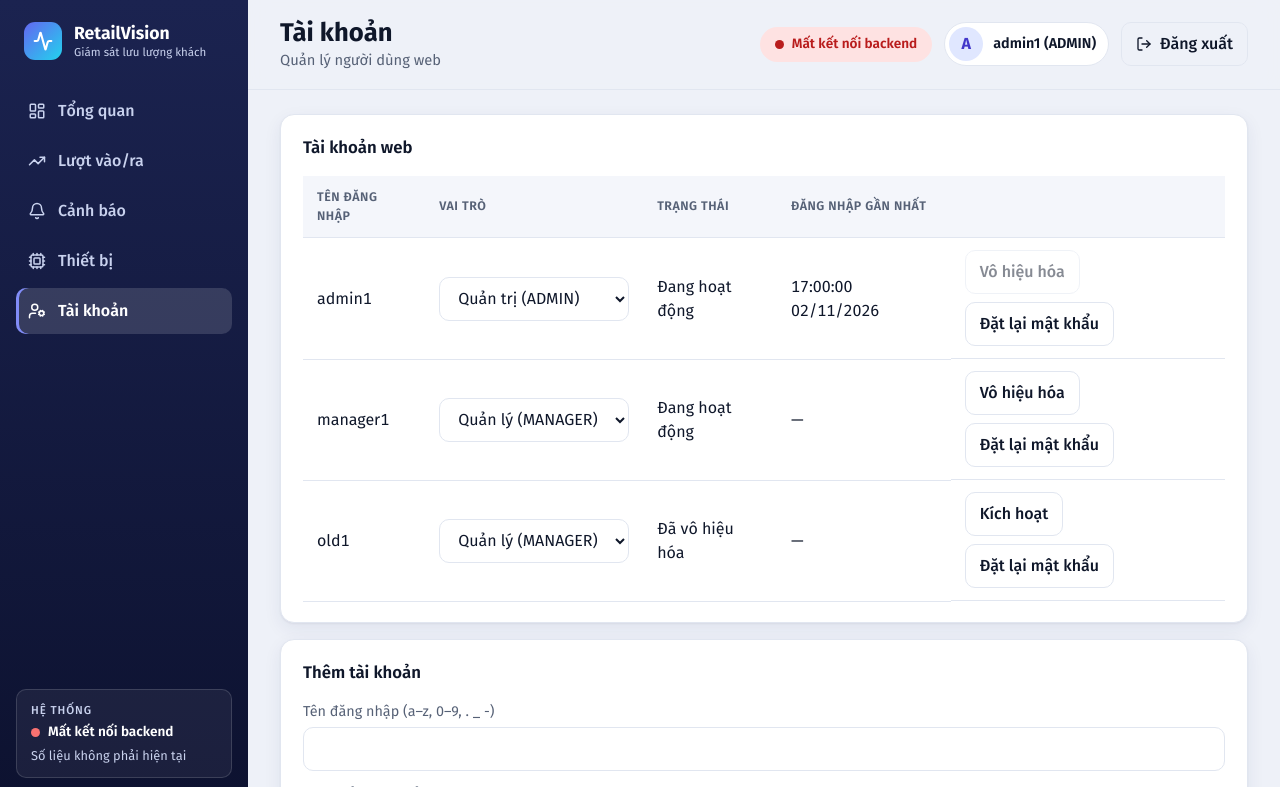
Test: trang Tài khoản (ADMIN) › vô hiệu hóa và đổi vai trò gọi PATCH đúng; lỗi 409 của backend được hiện nguyên văn
This screenshot has width=1280, height=787.
Click the button "Vô hiệu hóa" in the row of "manager1": (1022, 393) x1=965 y1=371 x2=1080 y2=415
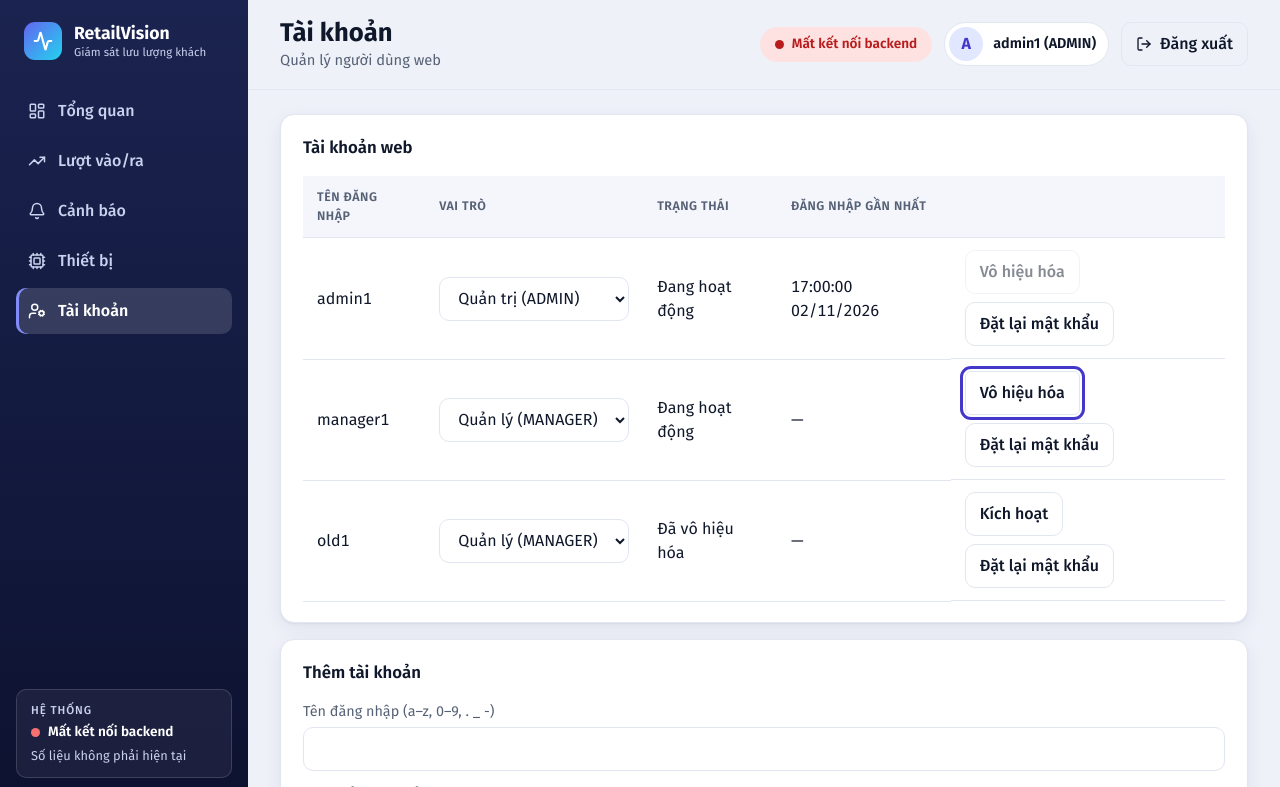
Select "Quản trị (ADMIN)" in the dropdown named "Vai trò của manager1": (534, 420) x1=439 y1=398 x2=629 y2=442
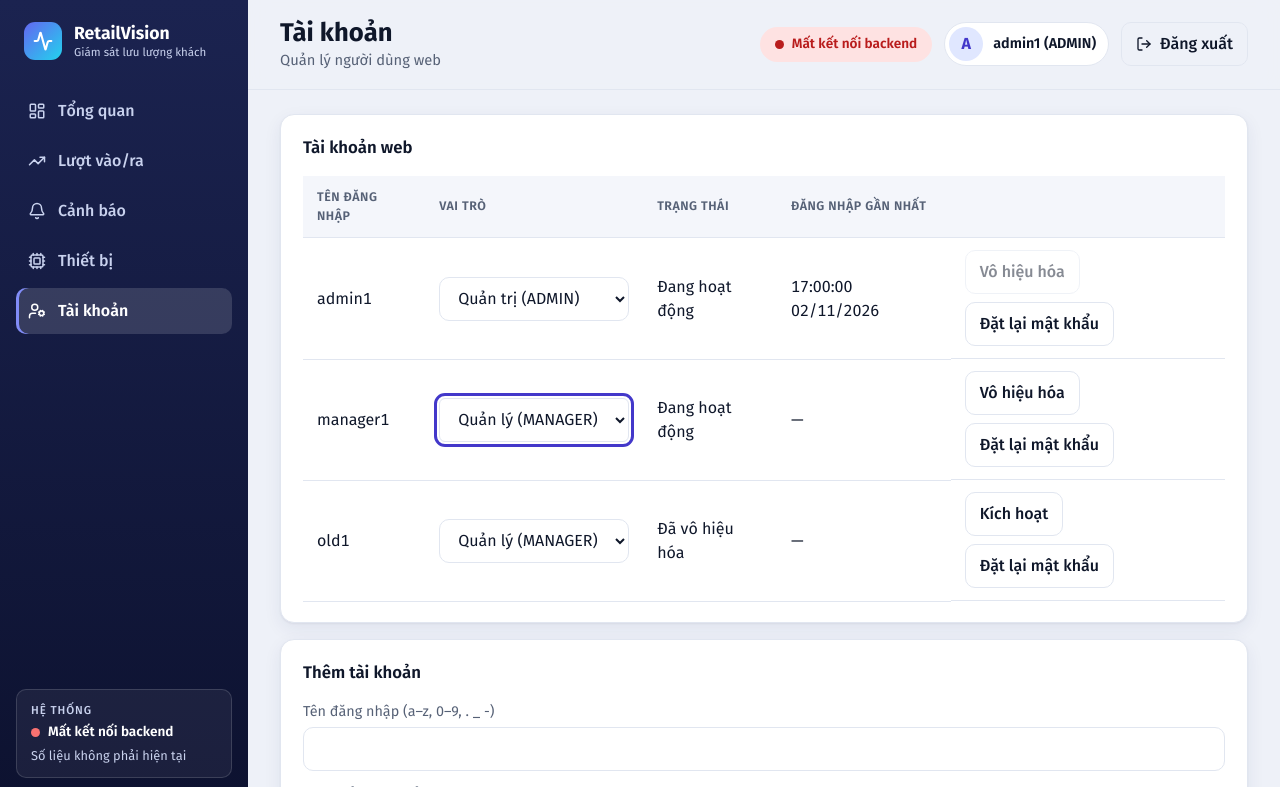
Click the button "Kích hoạt": (1014, 514) x1=965 y1=492 x2=1063 y2=536
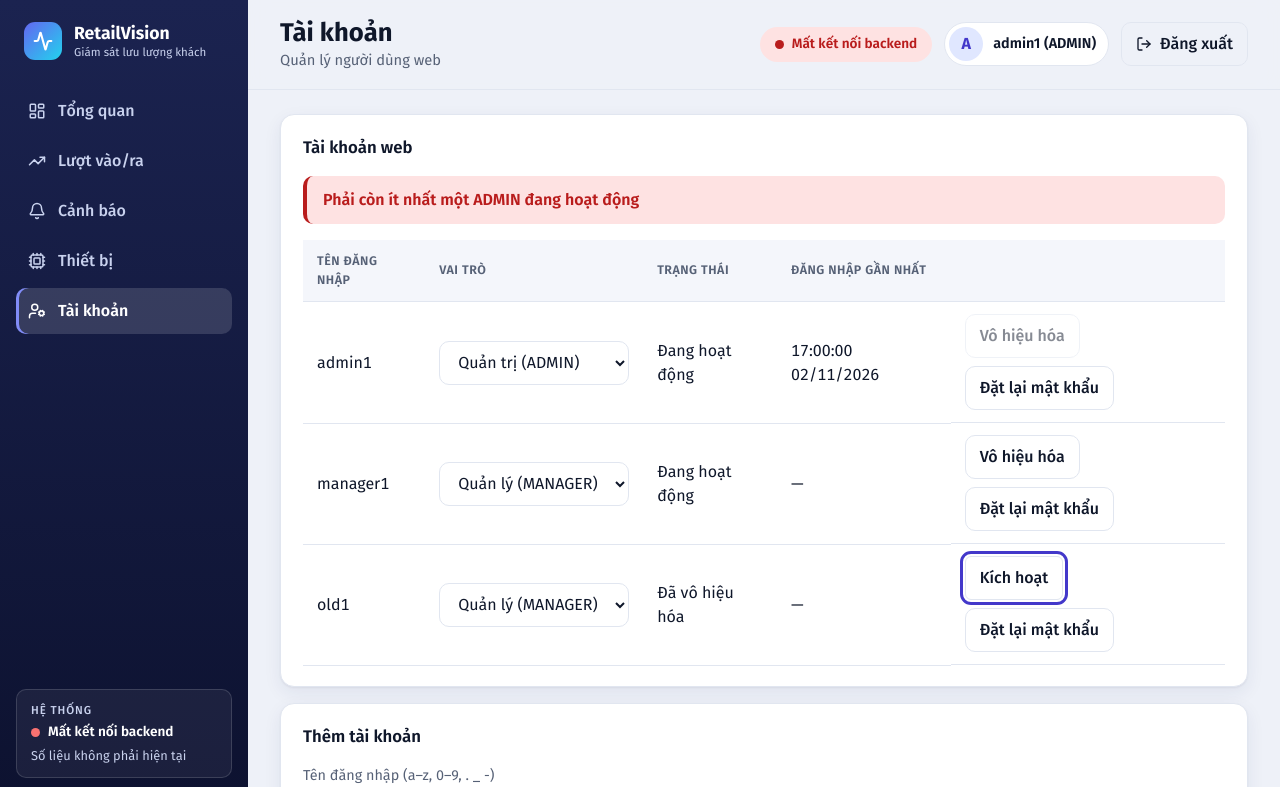
Expected: the text "Phải còn ít nhất một ADMIN đang hoạt động" is shown, x1=303 y1=176 x2=1225 y2=224
